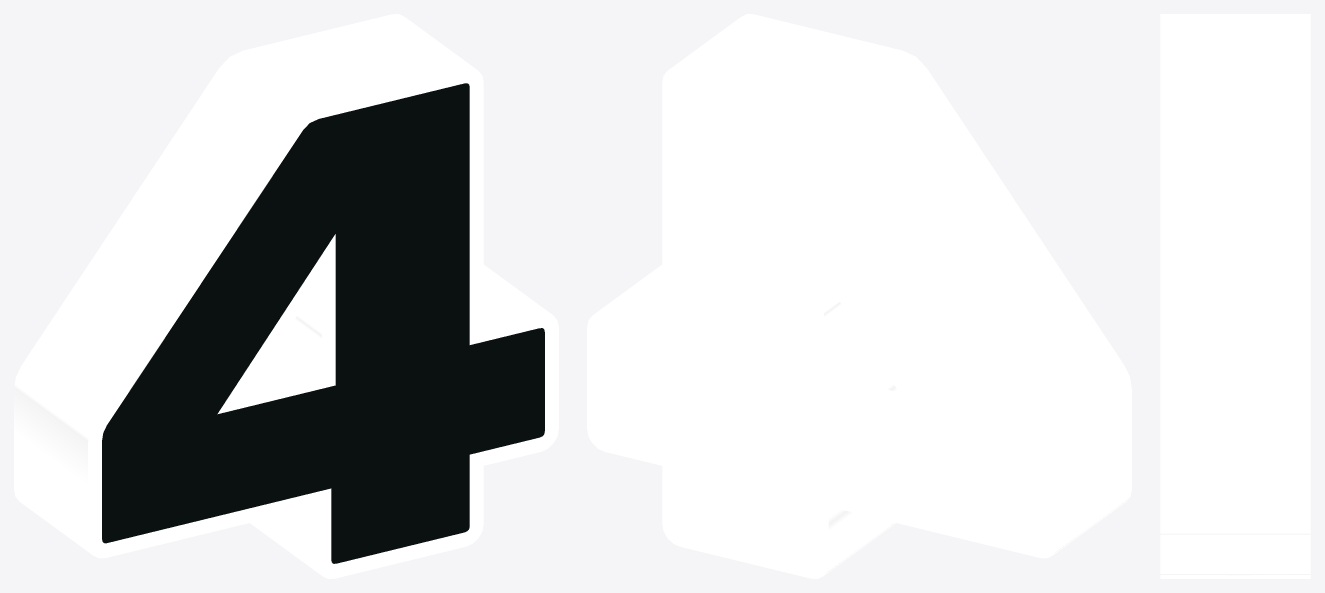
Rendered from number_4.glb.
The picture shows the model from 3 angles, left to right: view 1: azimuth 30°, elevation 25°; view 2: azimuth 150°, elevation 25°; view 3: azimuth 270°, elevation 25°; orthographic projection.
Parts seen in each view (by area): view 1: Nmbr.4; view 2: Nmbr.4; view 3: Nmbr.4.
Boxes of the visible parts, left/top/right/bottom form: Nmbr.4: left=14, top=14, right=558, bottom=578; Nmbr.4: left=587, top=14, right=1131, bottom=578; Nmbr.4: left=1160, top=14, right=1310, bottom=578.
Size of the model in its own units: 1.12 by 1.09 by 0.3052.
1 material, 1 textured.
